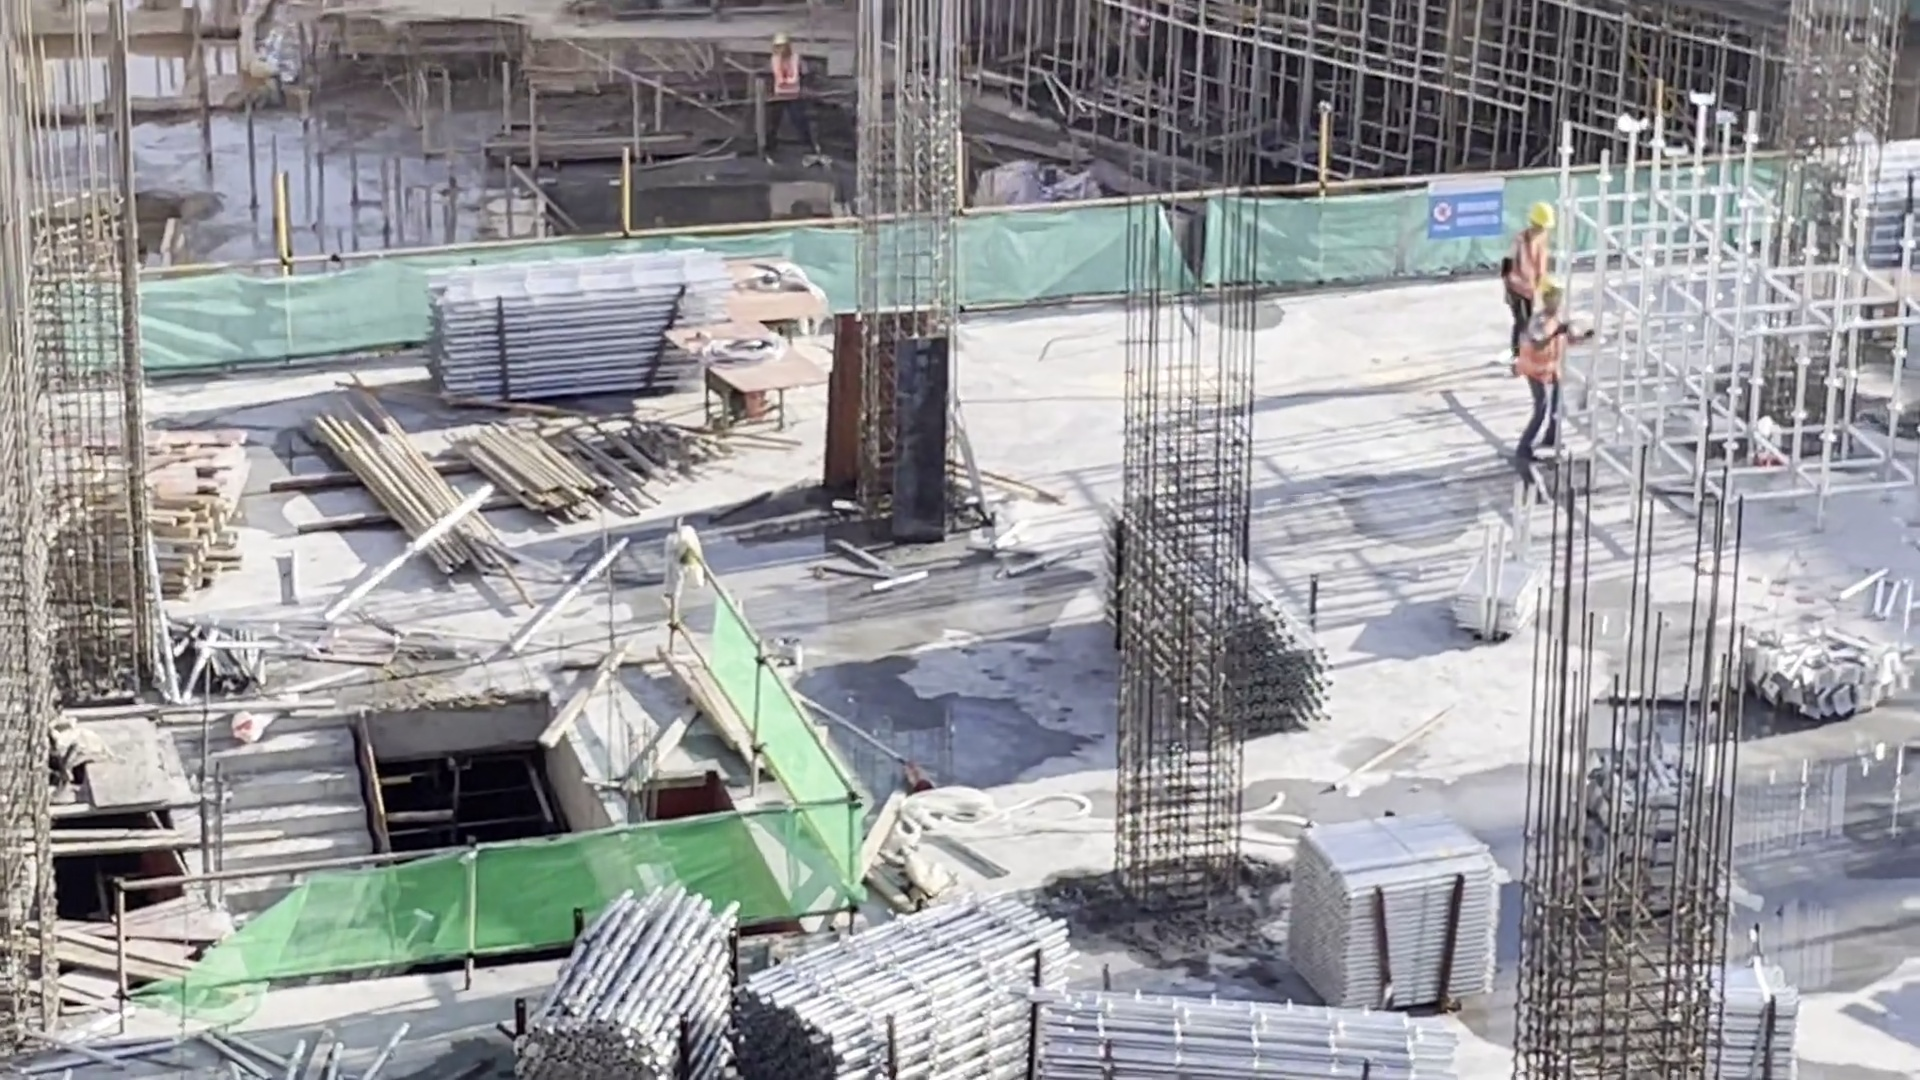cutter: (698, 323, 798, 423), (714, 255, 839, 328)
helmet: (1530, 199, 1559, 230), (1538, 280, 1563, 296), (768, 34, 790, 47)
person: (1505, 281, 1595, 462), (1500, 195, 1556, 368), (759, 32, 819, 160)
scaffold: (787, 905, 1047, 1080), (1129, 519, 1328, 735), (1044, 992, 1423, 1080), (447, 276, 720, 391), (1313, 835, 1503, 993), (545, 924, 725, 1080), (1450, 504, 1540, 637), (1669, 985, 1788, 1080)
slogan: (1432, 189, 1506, 244)
vest: (1507, 233, 1550, 291), (1521, 316, 1559, 375), (771, 54, 803, 97)
wood: (73, 487, 243, 604)
